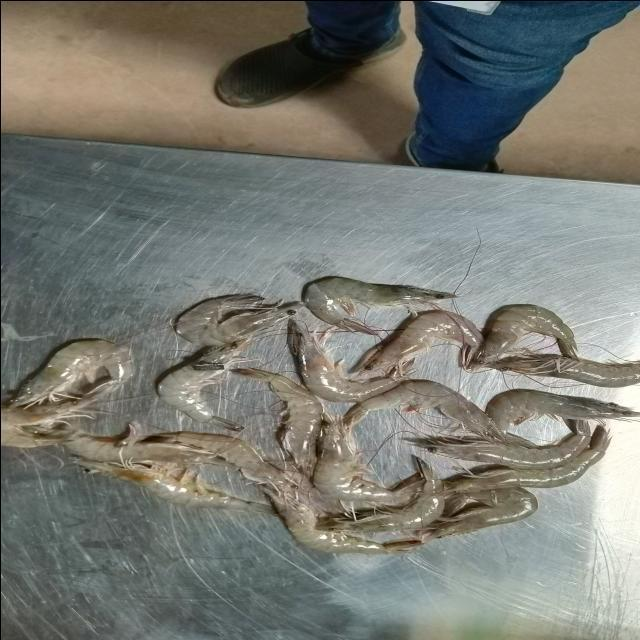shrimp: (465, 304, 640, 386), (78, 456, 275, 514), (259, 481, 410, 554), (445, 425, 609, 491), (343, 379, 503, 440), (233, 368, 321, 476), (312, 416, 423, 501), (288, 319, 403, 401), (317, 459, 445, 531), (8, 339, 133, 411), (301, 276, 454, 334), (352, 309, 483, 376), (412, 419, 589, 468), (157, 338, 250, 430), (27, 425, 233, 466), (465, 304, 576, 369), (149, 431, 284, 481), (175, 294, 301, 345), (485, 389, 640, 430), (421, 486, 536, 541), (487, 354, 640, 386), (0, 398, 98, 447)
